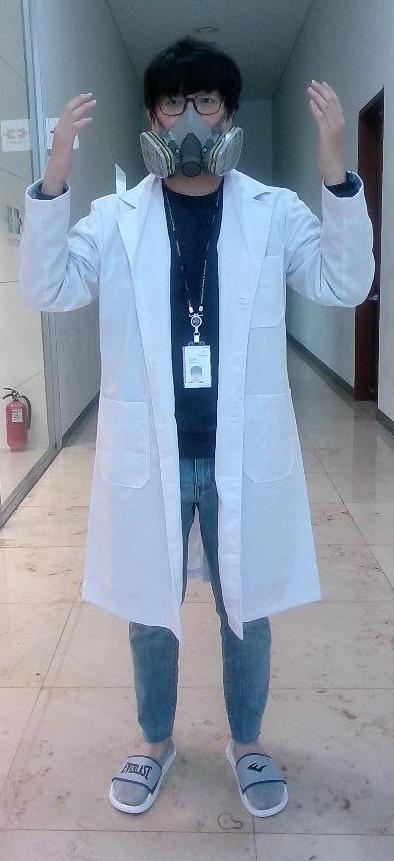lab_coat: (69, 192, 315, 623)
